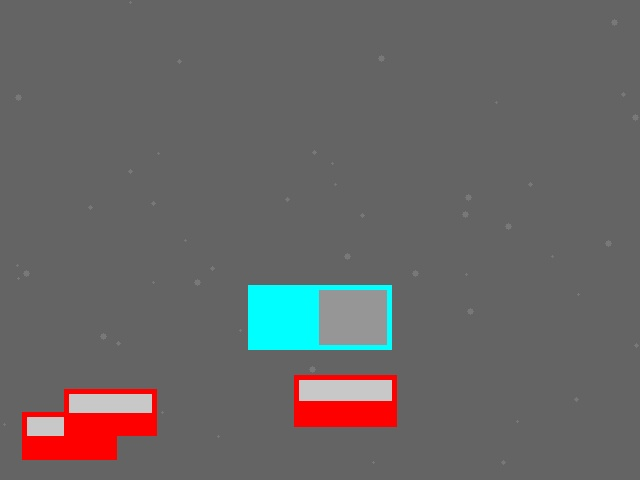car: (294, 375, 396, 426), (22, 412, 116, 459), (64, 389, 156, 435)
truck: (248, 285, 391, 349)
